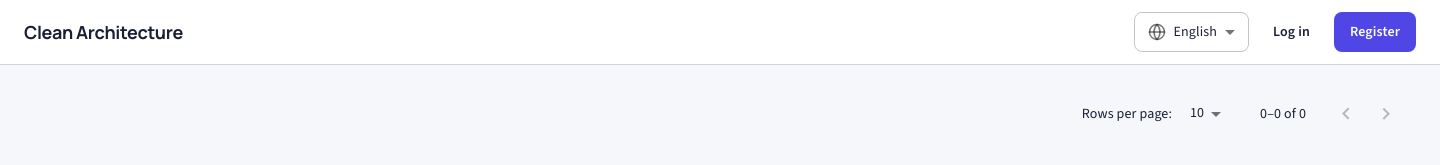
localized application theme › updates MUI component copy with the shell language and switches back to English
Expected: the link "Log in" is shown, 1273,22 -> 1310,41
Expected: the text "Rows per page:" is shown, 1082,104 -> 1172,124
Click the dropdown named "Language": (1195, 31) 1174,22 -> 1217,41
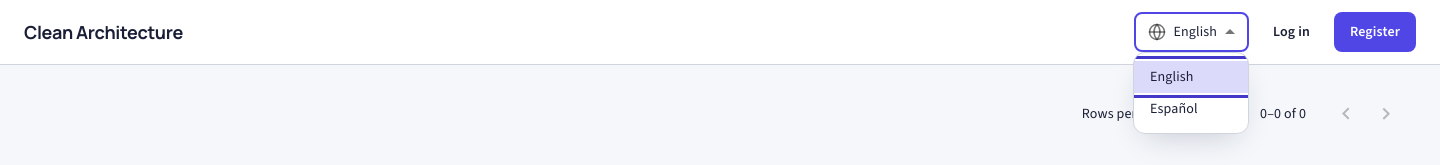
Click the option "Español": (1174, 108) 1150,99 -> 1198,118
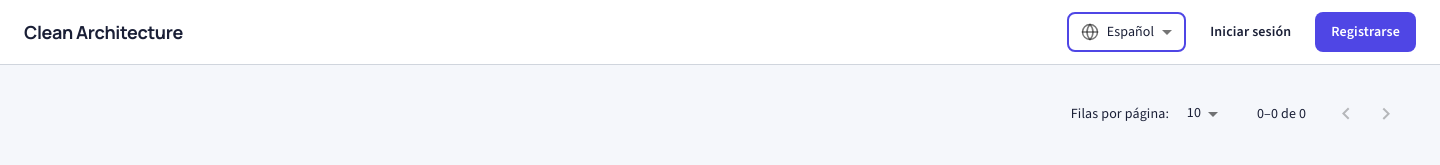
Now the text "Filas por página:" is shown, box 1071,104 -> 1169,124
Click the dropdown named "Idioma": (1130, 31) 1107,22 -> 1154,41
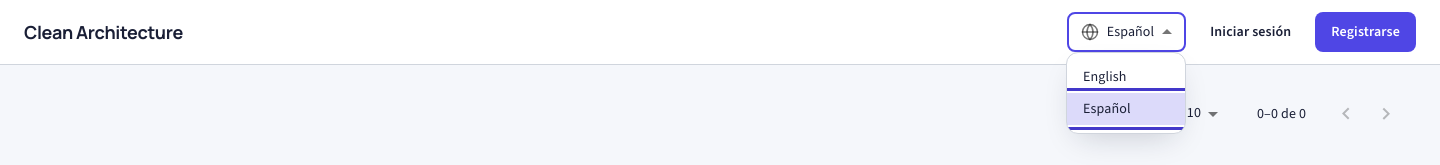
Click the option "English": (1105, 76) 1083,67 -> 1126,86
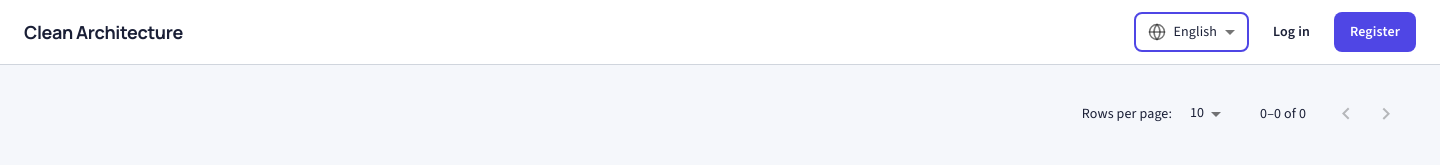
Now the text "Rows per page:" is shown, box 1082,104 -> 1172,124
